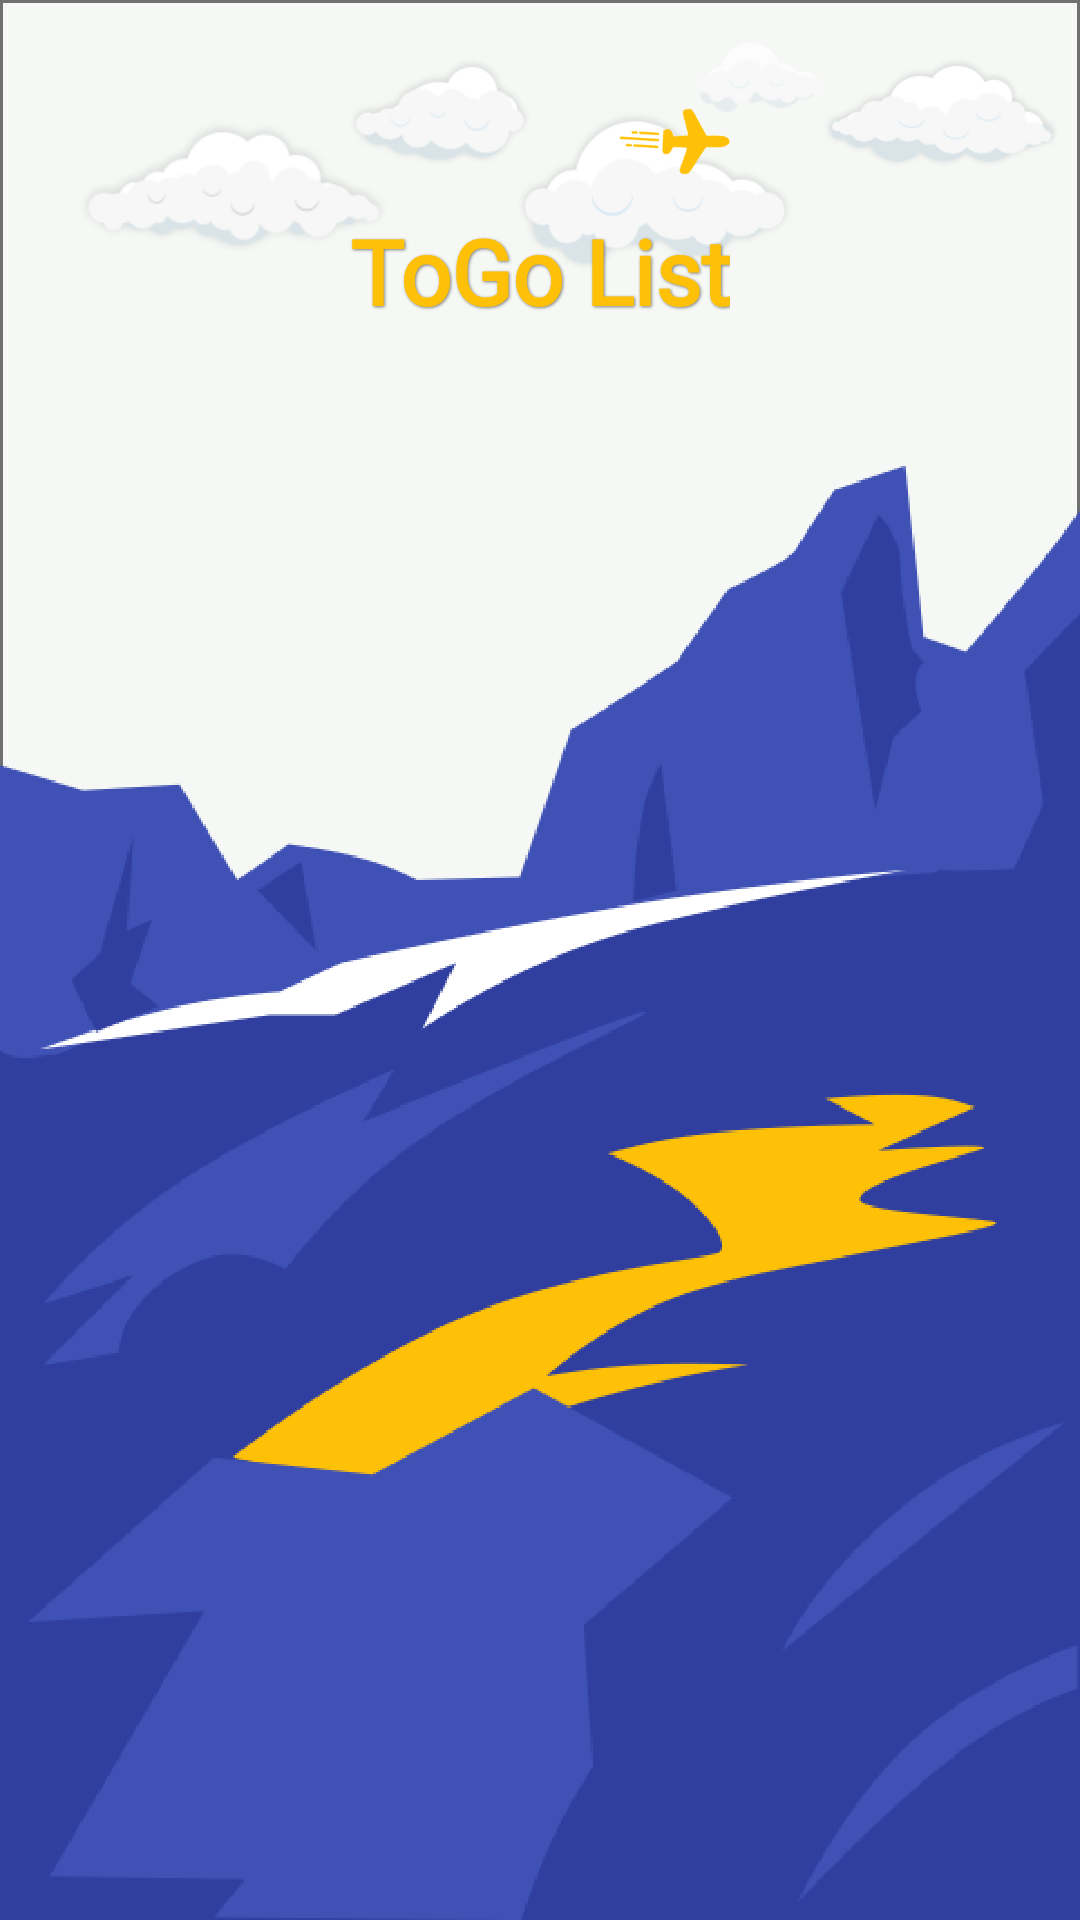

Point at icon controls on the screen. Image size 1080px×1920px, points as (x=x, y=y).
planeicon: (x=674, y=159)
